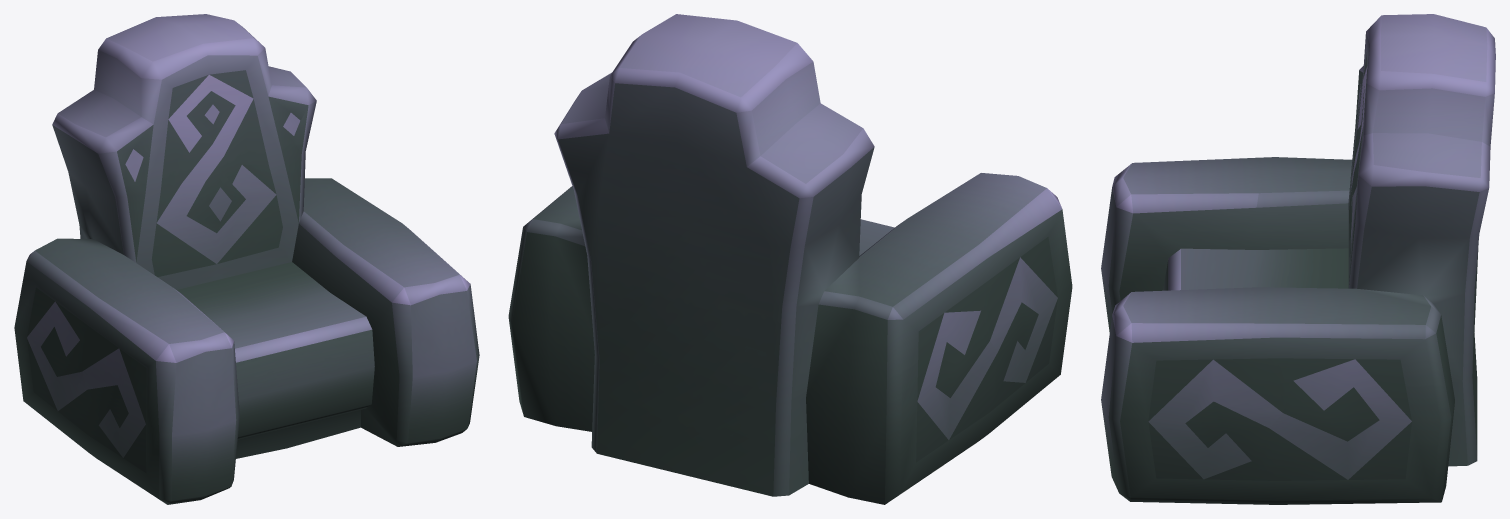
Rendered from undead_throne.fbx.
3 views of the same model, side by side, from view 1: azimuth 30°, elevation 25°; view 2: azimuth 150°, elevation 25°; view 3: azimuth 270°, elevation 25° (orthographic). The views are drawn at different scales.
Parts seen in each view (by area): view 1: undead_throne; view 2: undead_throne; view 3: undead_throne.
Part boxes in pixels (x1,y1,x2,y2): undead_throne: (14, 14, 479, 504); undead_throne: (508, 14, 1072, 504); undead_throne: (1101, 14, 1495, 504).
Bounding box in the file's own units: 2.12 × 2.11 × 1.96.
